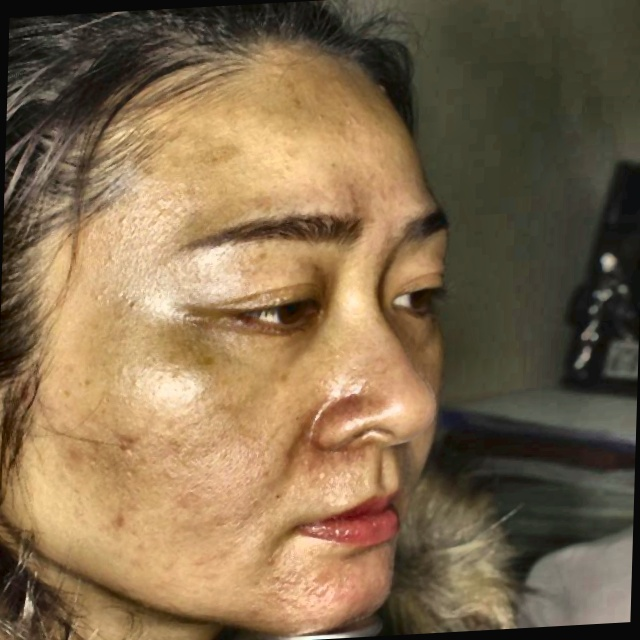comedone: (59, 438, 90, 475), (115, 427, 139, 463), (106, 506, 133, 533)
